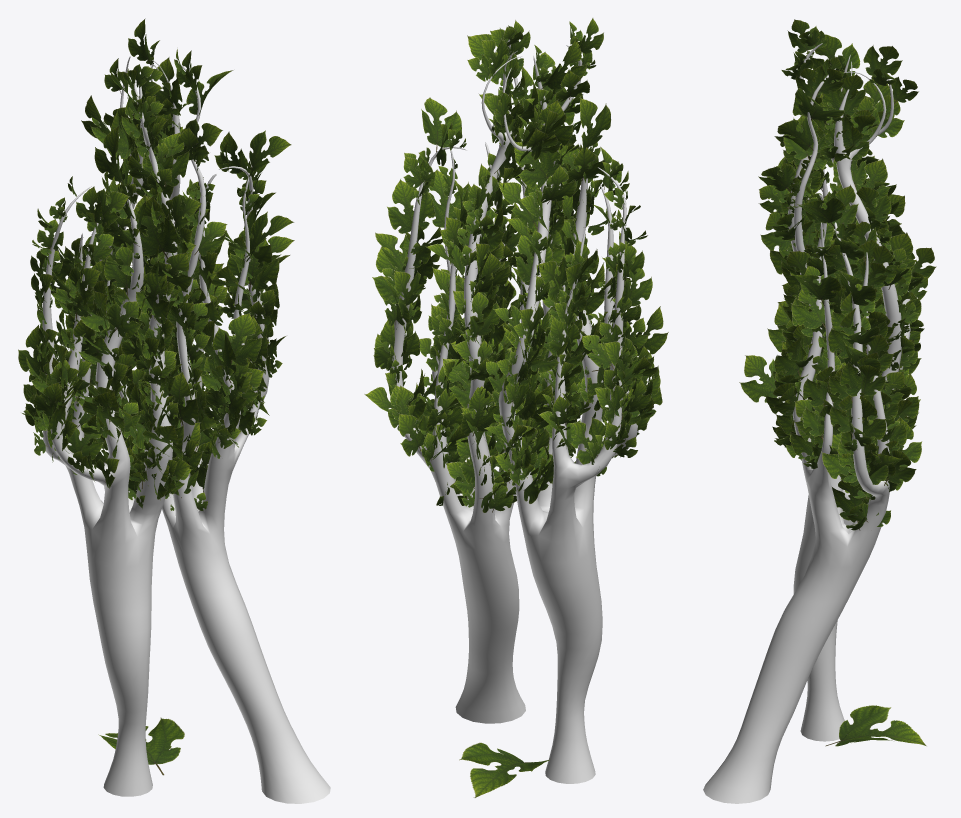
The model's file is HumanTree.fbx.
The picture shows the model from 3 angles, left to right: view 1: azimuth 30°, elevation 25°; view 2: azimuth 150°, elevation 25°; view 3: azimuth 270°, elevation 25°; orthographic projection. The views are drawn at different scales.
Visible parts, largest first — view 1: Human, Leaf, Human|Leaf|Dupli|833, Human|Leaf|Dupli|95, Human|Leaf|Dupli|271, Human|Leaf|Dupli|278, Human|Leaf|Dupli|558, Human|Leaf|Dupli|843, Human|Leaf|Dupli|316, Human|Leaf|Dupli|803, Human|Leaf|Dupli|810, Human|Leaf|Dupli|566 (+17 smaller); view 2: Human, Leaf, Human|Leaf|Dupli|266, Human|Leaf|Dupli|658, Human|Leaf|Dupli|278, Human|Leaf|Dupli|135, Human|Leaf|Dupli|558, Human|Leaf|Dupli|399, Human|Leaf|Dupli|252, Human|Leaf|Dupli|667, Human|Leaf|Dupli|879, Human|Leaf|Dupli|228 (+24 smaller); view 3: Human, Leaf, Human|Leaf|Dupli|966, Human|Leaf|Dupli|211, Human|Leaf|Dupli|682, Human|Leaf|Dupli|397, Human|Leaf|Dupli|416, Human|Leaf|Dupli|358, Human|Leaf|Dupli|399, Human|Leaf|Dupli|278, Human|Leaf|Dupli|283, Human|Leaf|Dupli|266 (+33 smaller).
Boxes of the visible parts, left/top/right/bottom form: Human: left=42, top=56, right=330, bottom=803; Leaf: left=98, top=717, right=184, bottom=775; Human|Leaf|Dupli|833: left=123, top=193, right=180, bottom=258; Human|Leaf|Dupli|95: left=212, top=312, right=262, bottom=365; Human|Leaf|Dupli|271: left=227, top=231, right=279, bottom=291; Human|Leaf|Dupli|278: left=249, top=130, right=291, bottom=176; Human|Leaf|Dupli|558: left=94, top=126, right=125, bottom=186; Human|Leaf|Dupli|843: left=142, top=132, right=189, bottom=186; Human|Leaf|Dupli|316: left=168, top=371, right=198, bottom=425; Human|Leaf|Dupli|803: left=150, top=252, right=193, bottom=291; Human|Leaf|Dupli|810: left=127, top=269, right=170, bottom=323; Human|Leaf|Dupli|566: left=106, top=301, right=141, bottom=337; Human: left=389, top=39, right=639, bottom=783; Leaf: left=459, top=742, right=549, bottom=797; Human|Leaf|Dupli|266: left=387, top=179, right=435, bottom=233; Human|Leaf|Dupli|658: left=514, top=141, right=560, bottom=189; Human|Leaf|Dupli|278: left=421, top=97, right=461, bottom=151; Human|Leaf|Dupli|135: left=461, top=386, right=499, bottom=436; Human|Leaf|Dupli|558: left=579, top=96, right=611, bottom=155; Human|Leaf|Dupli|399: left=424, top=169, right=474, bottom=227; Human|Leaf|Dupli|252: left=374, top=320, right=419, bottom=369; Human|Leaf|Dupli|667: left=497, top=182, right=540, bottom=230; Human|Leaf|Dupli|879: left=570, top=416, right=605, bottom=464; Human|Leaf|Dupli|228: left=398, top=413, right=432, bottom=456; Human: left=703, top=43, right=910, bottom=803; Leaf: left=825, top=705, right=926, bottom=746; Human|Leaf|Dupli|966: left=739, top=355, right=777, bottom=402; Human|Leaf|Dupli|211: left=822, top=74, right=867, bottom=115; Human|Leaf|Dupli|682: left=810, top=34, right=860, bottom=90; Human|Leaf|Dupli|397: left=791, top=281, right=833, bottom=329; Human|Leaf|Dupli|416: left=863, top=45, right=902, bottom=77; Human|Leaf|Dupli|358: left=774, top=116, right=818, bottom=150; Human|Leaf|Dupli|399: left=787, top=269, right=841, bottom=305; Human|Leaf|Dupli|278: left=797, top=197, right=844, bottom=227; Human|Leaf|Dupli|283: left=821, top=184, right=858, bottom=232; Human|Leaf|Dupli|266: left=838, top=270, right=875, bottom=305.
Size of the model in its own units: 43.17 by 109 by 33.64.
